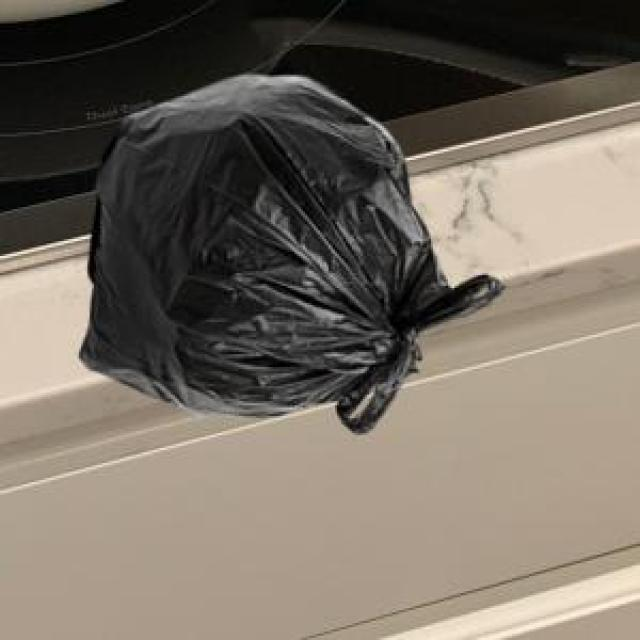Vinyl: (82, 75, 504, 432)
